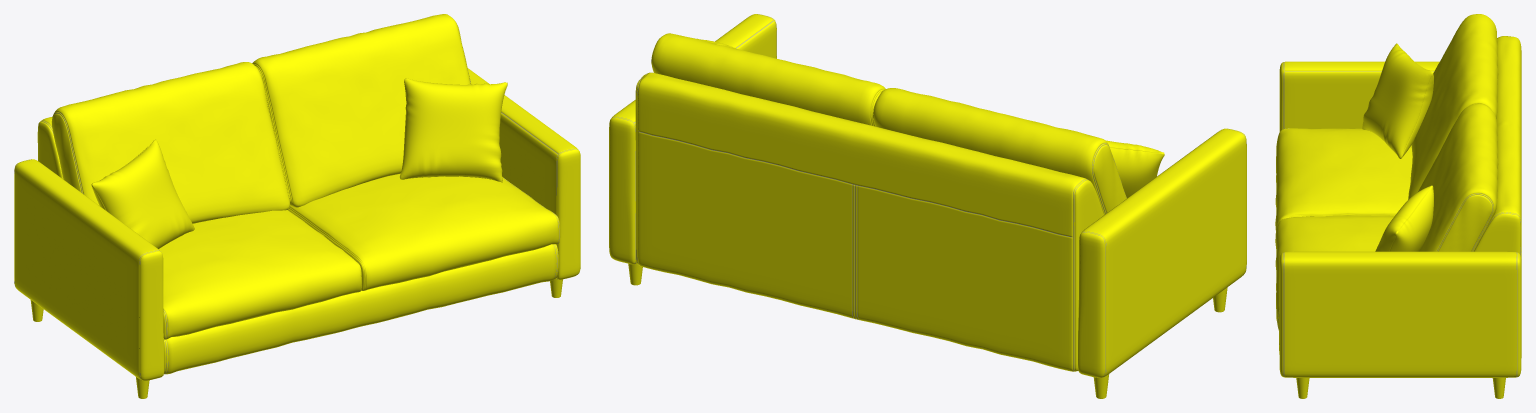
The picture shows the model from 3 angles, left to right: view 1: azimuth 30°, elevation 25°; view 2: azimuth 150°, elevation 25°; view 3: azimuth 270°, elevation 25°; orthographic projection. The views are drawn at different scales.
Parts seen in each view (by area): view 1: bodylightgray52, leftarm52, rightarm52, woodleg52; view 2: bodylightgray52, leftarm52, rightarm52, woodleg52; view 3: bodylightgray52, rightarm52, leftarm52, woodleg52.
Boxes of the visible parts, bbox=[...] form: bodylightgray52: bbox=[37, 14, 560, 374]; leftarm52: bbox=[14, 159, 164, 380]; rightarm52: bbox=[467, 68, 580, 279]; woodleg52: bbox=[30, 278, 562, 398]; bodylightgray52: bbox=[635, 33, 1164, 371]; leftarm52: bbox=[1078, 128, 1246, 377]; rightarm52: bbox=[609, 14, 776, 264]; woodleg52: bbox=[628, 263, 1227, 398]; bodylightgray52: bbox=[1275, 14, 1521, 357]; rightarm52: bbox=[1279, 251, 1521, 377]; leftarm52: bbox=[1279, 61, 1439, 131]; woodleg52: bbox=[1296, 378, 1505, 398].
Size of the model in its own units: 1.8 by 0.8468 by 0.9321.
9 materials, 6 textured.
